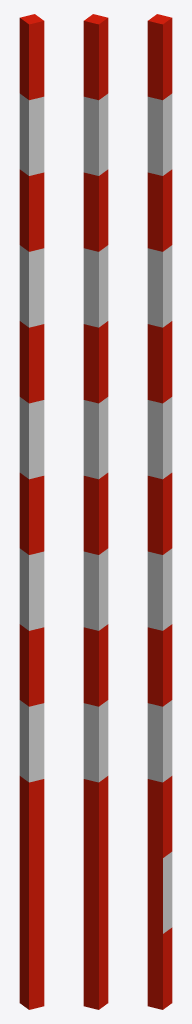
Rendered from spire.fbx.
3 renders of one model, left to right at view 1: azimuth 30°, elevation 25°; view 2: azimuth 150°, elevation 25°; view 3: azimuth 330°, elevation 25°, orthographic.
Parts seen in each view (by area): view 1: spire_LOD0; view 2: spire_LOD0; view 3: spire_LOD0.
Boxes of the visible parts, x1=… form: spire_LOD0: x1=19, y1=14, x2=44, y2=1009; spire_LOD0: x1=83, y1=14, x2=108, y2=1009; spire_LOD0: x1=147, y1=14, x2=172, y2=1009.
Size of what is drawn, in the model's own units: 0.7669 by 48.06 by 0.8243.
